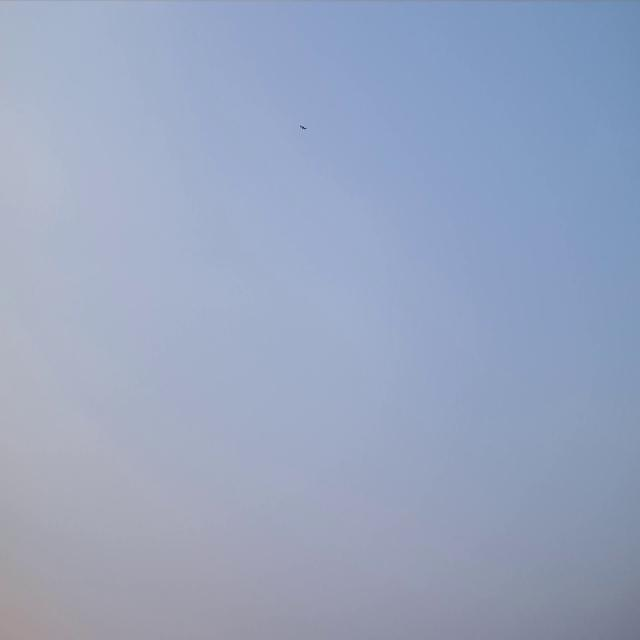UAV: (299, 124, 307, 131)
